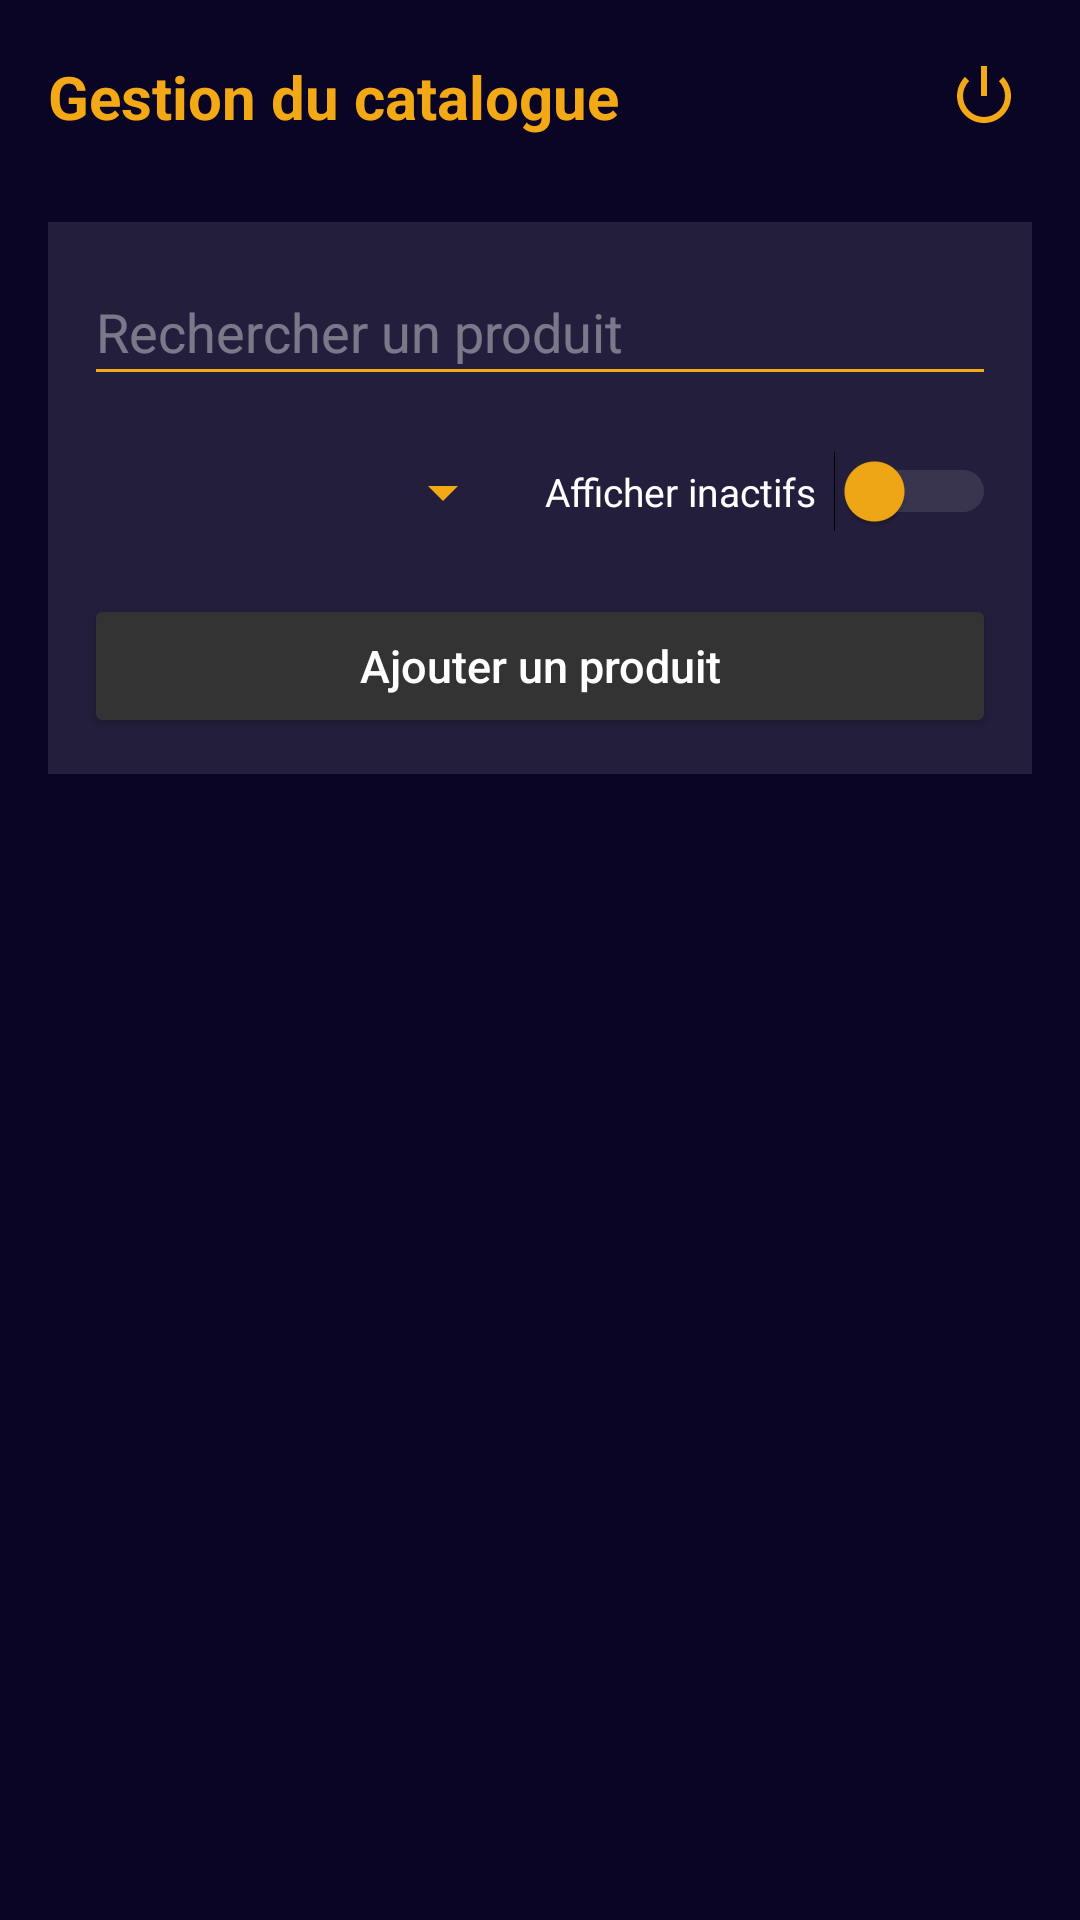

Where icons sit on this 1080 × 1920 app screen, as box(x1, y1, x2, y2):
Se deconnecter: box(957, 66, 1011, 123)
